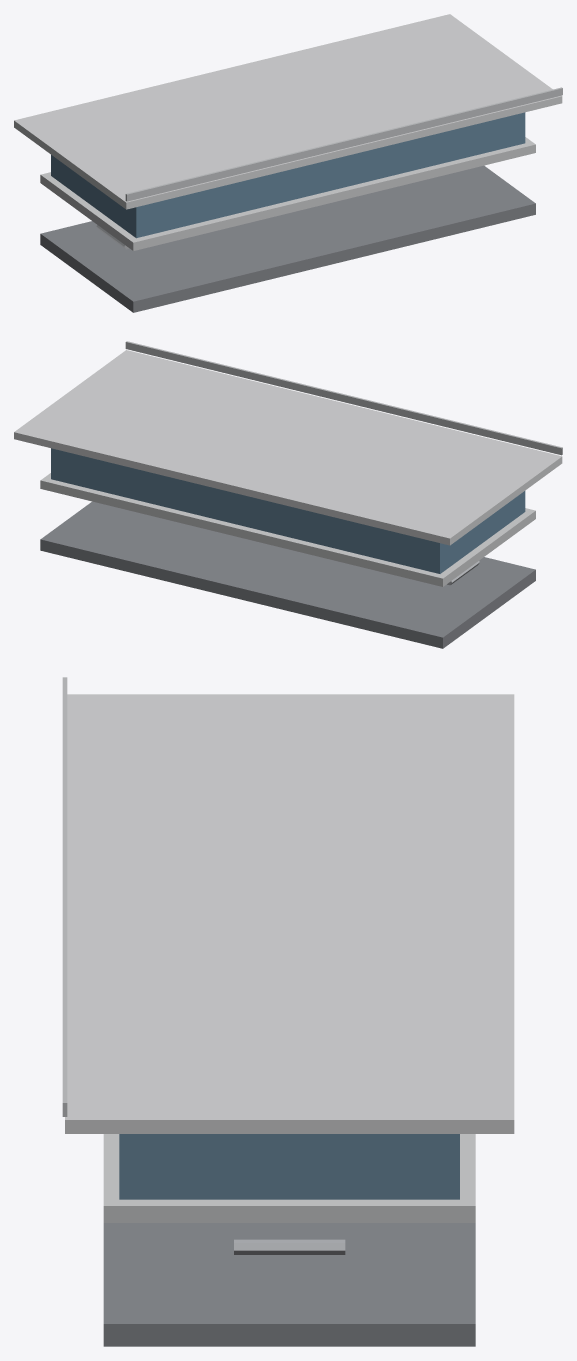
Rendered from hospitality.glb.
3 views of the same model, one above another, from view 1: azimuth 30°, elevation 25°; view 2: azimuth 150°, elevation 25°; view 3: azimuth 270°, elevation 25° (orthographic). The views are drawn at different scales.
Parts seen in each view (by area): view 1: hospitality; view 2: hospitality; view 3: hospitality.
Boxes of the visible parts, x1=… form: hospitality: x1=14, y1=14, x2=562, y2=312; hospitality: x1=14, y1=341, x2=562, y2=648; hospitality: x1=62, y1=677, x2=514, y2=1346.
Bounding box in the file's own units: 32.5 × 9.25 × 14.57.
